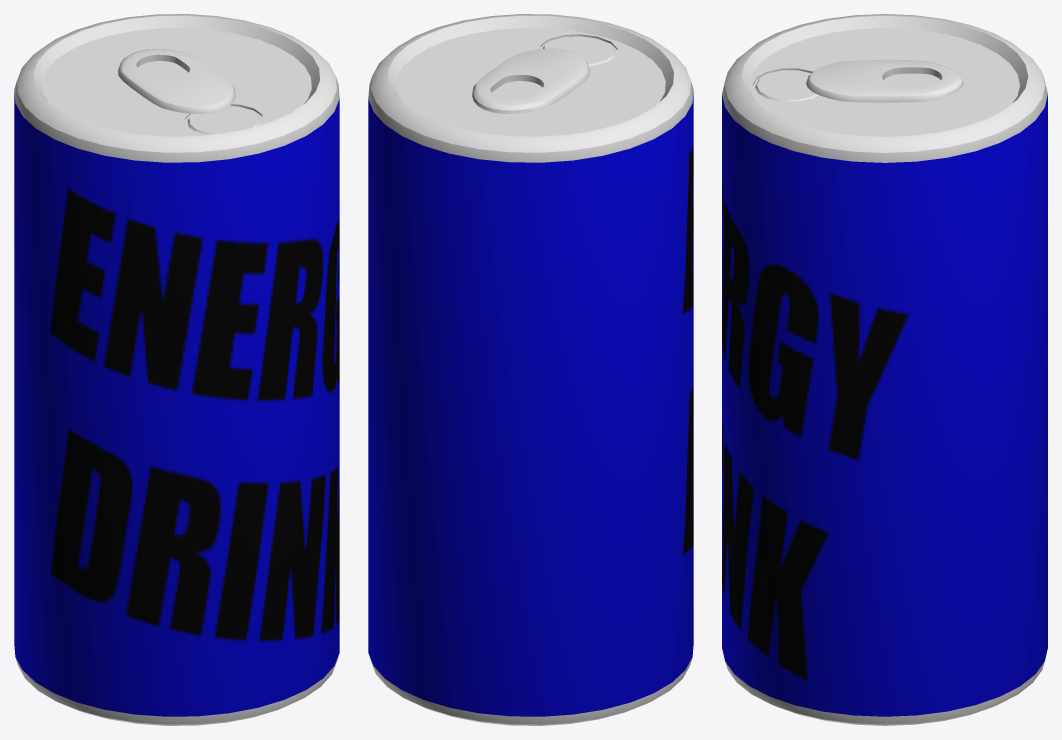
The model's file is EnergyDrink.fbx.
The picture shows the model from 3 angles, left to right: view 1: azimuth 30°, elevation 25°; view 2: azimuth 150°, elevation 25°; view 3: azimuth 270°, elevation 25°; orthographic projection.
Visible parts, largest first — view 1: Cylinder; view 2: Cylinder; view 3: Cylinder.
Boxes of the visible parts, x1,y1,x2,y2 form: Cylinder: [14, 14, 339, 725]; Cylinder: [368, 14, 693, 725]; Cylinder: [722, 14, 1047, 725].
Size of the model in its own units: 200 by 398 by 200.
